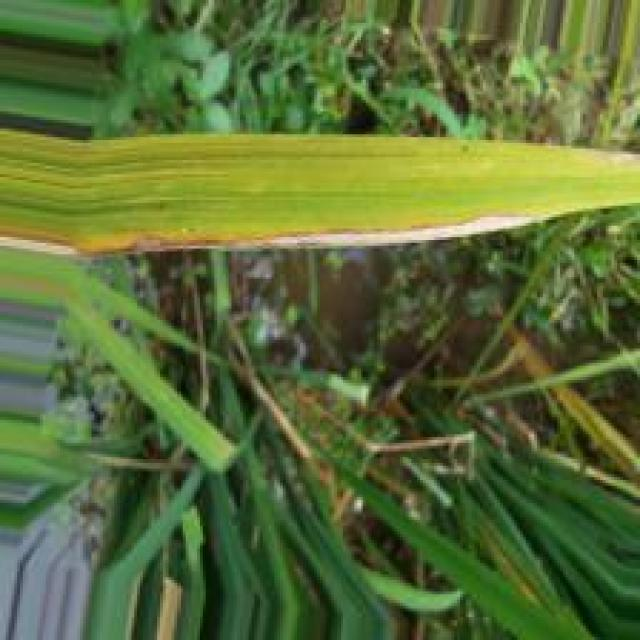Bacterial_Leaf_Blight: (80, 208, 540, 261)
